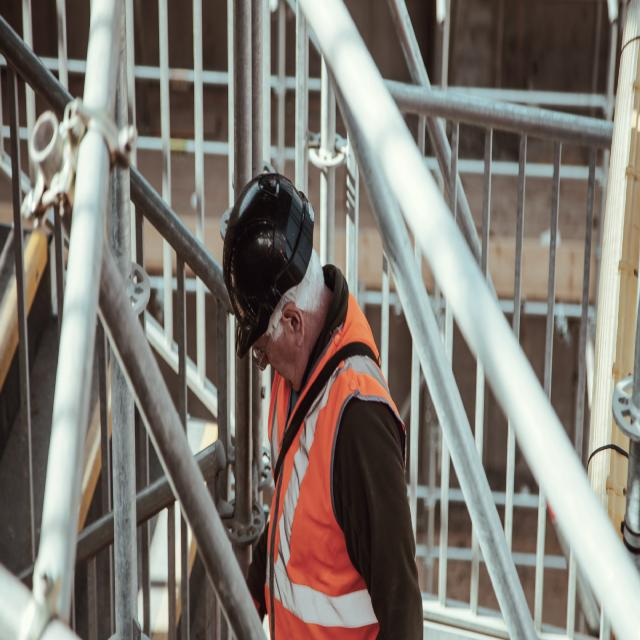helmet: (201, 170, 331, 332)
vest: (260, 350, 424, 640)
